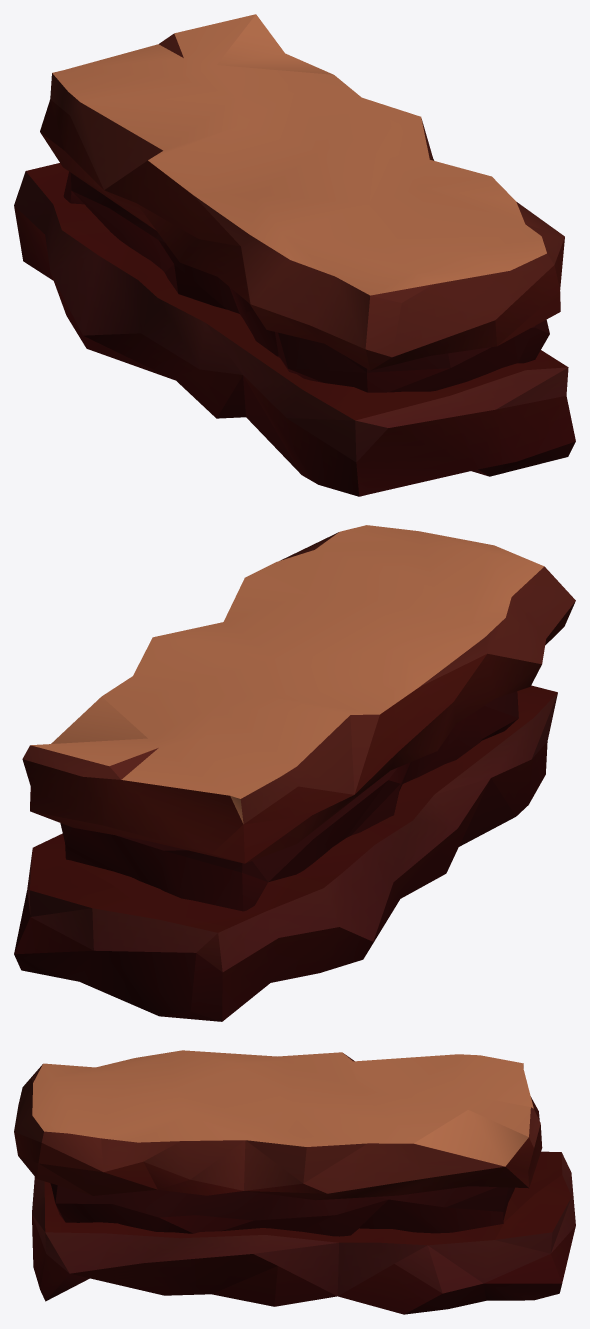
The model's file is cliff3.fbx.
The picture shows the model from 3 angles, top to bottom: view 1: azimuth 30°, elevation 25°; view 2: azimuth 150°, elevation 25°; view 3: azimuth 270°, elevation 25°; orthographic projection. The views are drawn at different scales.
Parts seen in each view (by area): view 1: cliff.002; view 2: cliff.002; view 3: cliff.002.
Part boxes in pixels (x1,y1,x2,y2): cliff.002: (14,14,575,496); cliff.002: (14,525,575,1021); cliff.002: (14,1050,575,1314).
Size of the model in its own units: 4.96 by 3.55 by 10.37.
